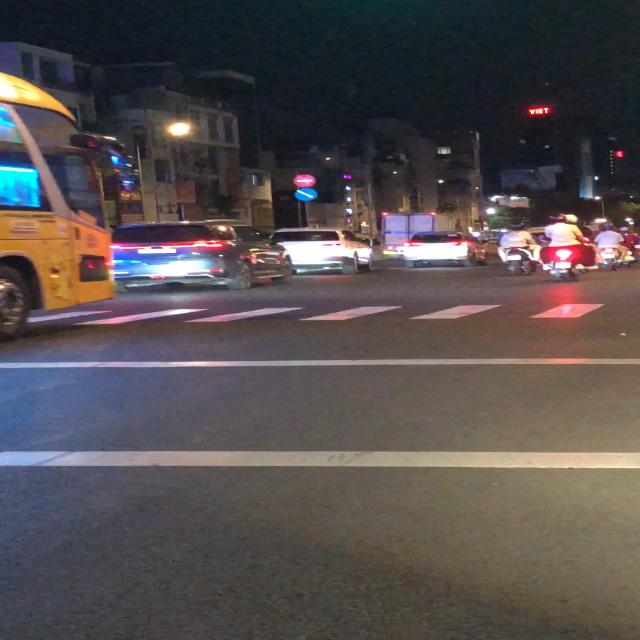Bien bao cam di nguoc chieu: (293, 173, 318, 187)
Bien bao huong phai di vong chuong ngai vat: (293, 188, 319, 202)
